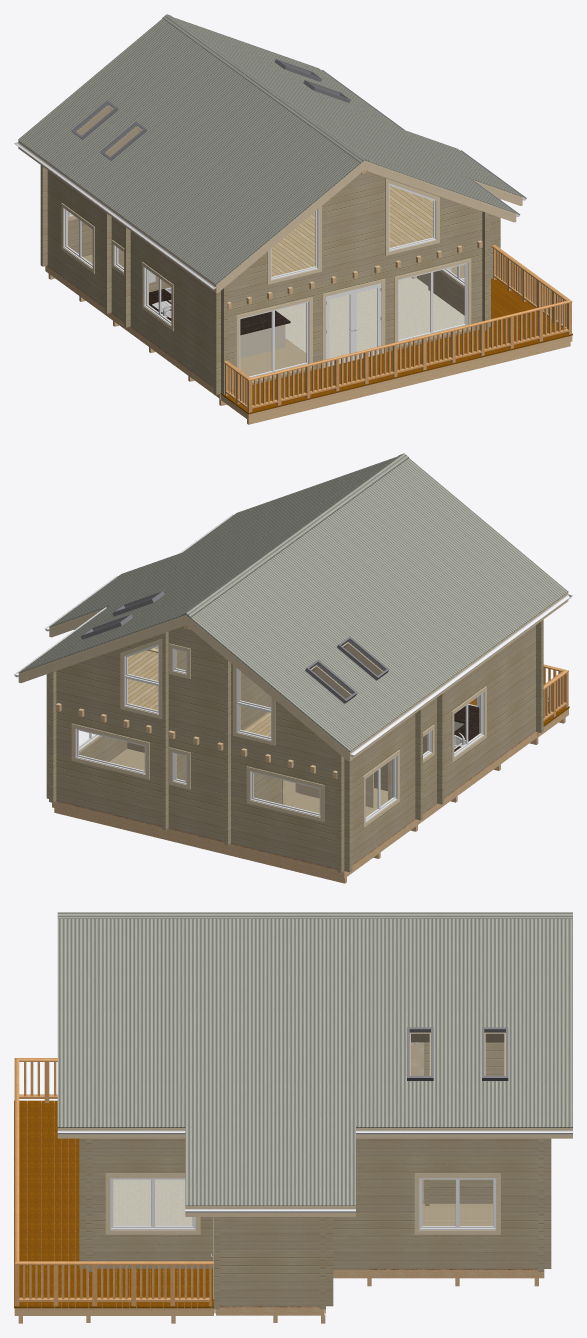
The model's file is hawk_lane_scandinavian_style_house.glb.
3 renders of one model, top to bottom at view 1: azimuth 30°, elevation 25°; view 2: azimuth 150°, elevation 25°; view 3: azimuth 270°, elevation 25°, orthographic. The views are drawn at different scales.
Visible parts, largest first — view 1: Object_20, Object_13, Object_21, Object_10, Object_39, Object_3, Object_34, Object_43, Object_37, Object_22, Object_30, Object_29 (+4 smaller); view 2: Object_20, Object_13, Object_10, Object_37, Object_34, Object_30, Object_43, Object_29, Object_12, Object_21, Object_9, Object_11 (+3 smaller); view 3: Object_20, Object_13, Object_39, Object_21, Object_10, Object_3, Object_37, Object_22, Object_29, Object_34, Object_12, Object_30 (+1 smaller).
Boxes of the visible parts, x1,y1,x2,y2 form: Object_20: (18, 14, 522, 284); Object_13: (40, 165, 500, 394); Object_21: (224, 245, 572, 412); Object_10: (18, 140, 522, 382); Object_39: (220, 278, 572, 414); Object_3: (276, 277, 464, 358); Object_34: (63, 183, 467, 377); Object_43: (271, 186, 433, 276); Object_37: (45, 266, 570, 424); Object_22: (221, 335, 572, 420); Object_30: (71, 59, 350, 160); Object_29: (14, 69, 526, 289); Object_20: (18, 453, 568, 751); Object_13: (46, 620, 543, 873); Object_10: (18, 592, 568, 828); Object_37: (52, 717, 565, 883); Object_34: (75, 644, 484, 821); Object_30: (80, 591, 388, 703); Object_43: (128, 646, 270, 736); Object_29: (14, 514, 572, 756); Object_12: (109, 748, 387, 816); Object_21: (543, 664, 568, 720); Object_9: (79, 648, 479, 807); Object_11: (310, 642, 383, 698); Object_20: (57, 912, 572, 1205); Object_13: (79, 1042, 551, 1309); Object_39: (14, 1100, 213, 1308); Object_21: (14, 1058, 213, 1306); Object_10: (57, 1128, 572, 1298); Object_3: (113, 1179, 192, 1225); Object_37: (18, 1270, 544, 1323); Object_22: (14, 1102, 213, 1315); Object_29: (57, 1130, 572, 1212); Object_34: (110, 1178, 495, 1229); Object_12: (422, 1203, 492, 1225); Object_30: (407, 1027, 508, 1080).
Size of the model in its own units: 1142 by 668 by 1166.
Materials: 39 (18 with a texture image).
